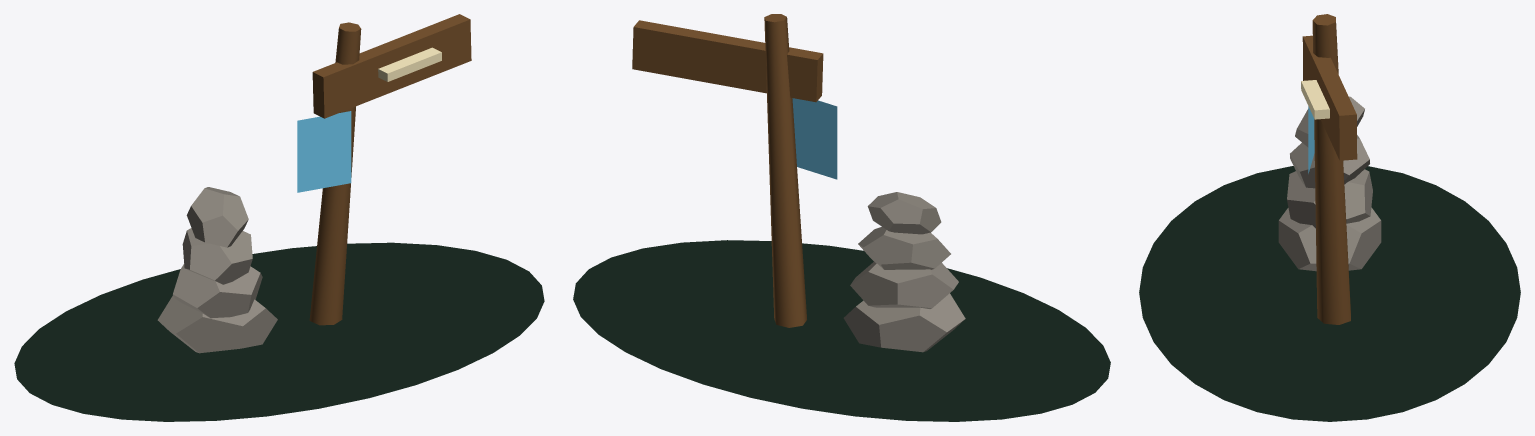
Rendered from trail_marker.glb.
The picture shows the model from 3 angles, left to right: view 1: azimuth 30°, elevation 25°; view 2: azimuth 150°, elevation 25°; view 3: azimuth 270°, elevation 25°; orthographic projection. The views are drawn at different scales.
Visible parts, largest first — view 1: soft_ground_shadow, trail_marker_arrow_board, trail_marker_post, trail_marker_cairn_0, trail_marker_cloth_strip, trail_marker_cairn_1, trail_marker_cairn_3, trail_marker_cairn_2, trail_marker_notch; view 2: soft_ground_shadow, trail_marker_post, trail_marker_arrow_board, trail_marker_cairn_0, trail_marker_cairn_1, trail_marker_cloth_strip, trail_marker_cairn_2, trail_marker_cairn_3; view 3: soft_ground_shadow, trail_marker_post, trail_marker_cairn_0, trail_marker_arrow_board, trail_marker_cairn_1, trail_marker_cairn_2, trail_marker_notch, trail_marker_cairn_3, trail_marker_cloth_strip.
Part boxes in pixels (<box>): soft_ground_shadow: <box>14,242,544,421</box>; trail_marker_arrow_board: <box>312,14,471,118</box>; trail_marker_post: <box>309,22,361,325</box>; trail_marker_cairn_0: <box>157,295,277,353</box>; trail_marker_cloth_strip: <box>297,111,351,192</box>; trail_marker_cairn_1: <box>173,264,262,318</box>; trail_marker_cairn_3: <box>186,187,248,247</box>; trail_marker_cairn_2: <box>182,228,252,284</box>; trail_marker_notch: <box>378,47,441,81</box>; soft_ground_shadow: <box>573,240,1110,421</box>; trail_marker_post: <box>764,14,806,327</box>; trail_marker_arrow_board: <box>632,20,823,102</box>; trail_marker_cairn_0: <box>843,293,965,352</box>; trail_marker_cairn_1: <box>850,261,958,308</box>; trail_marker_cloth_strip: <box>792,98,837,179</box>; trail_marker_cairn_2: <box>858,227,950,269</box>; trail_marker_cairn_3: <box>867,192,941,234</box>; soft_ground_shadow: <box>1139,166,1520,421</box>; trail_marker_post: <box>1312,14,1350,324</box>; trail_marker_cairn_0: <box>1278,207,1381,271</box>; trail_marker_arrow_board: <box>1302,35,1357,160</box>; trail_marker_cairn_1: <box>1287,169,1372,228</box>; trail_marker_cairn_2: <box>1290,135,1369,188</box>; trail_marker_notch: <box>1301,80,1329,119</box>; trail_marker_cairn_3: <box>1295,96,1364,147</box>; trail_marker_cloth_strip: <box>1308,106,1314,173</box>.
Size of the model in its own units: 2.75 by 1.56 by 1.72.
